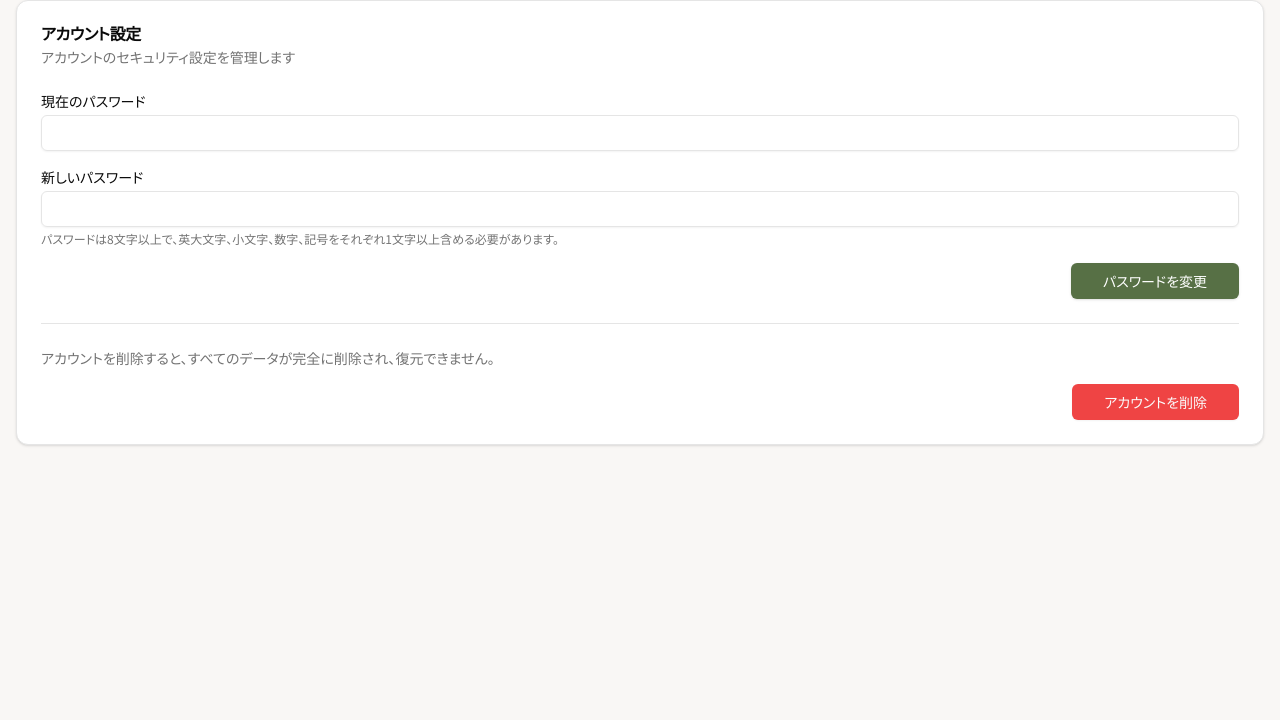
Test: AccountSettingsPage › 新しいパスワードが短い場合にバリデーションエラーが表示される
Type "oldpass123!A" into the password field labelled "現在のパスワード" at (640, 133), box [41, 115, 1239, 151]
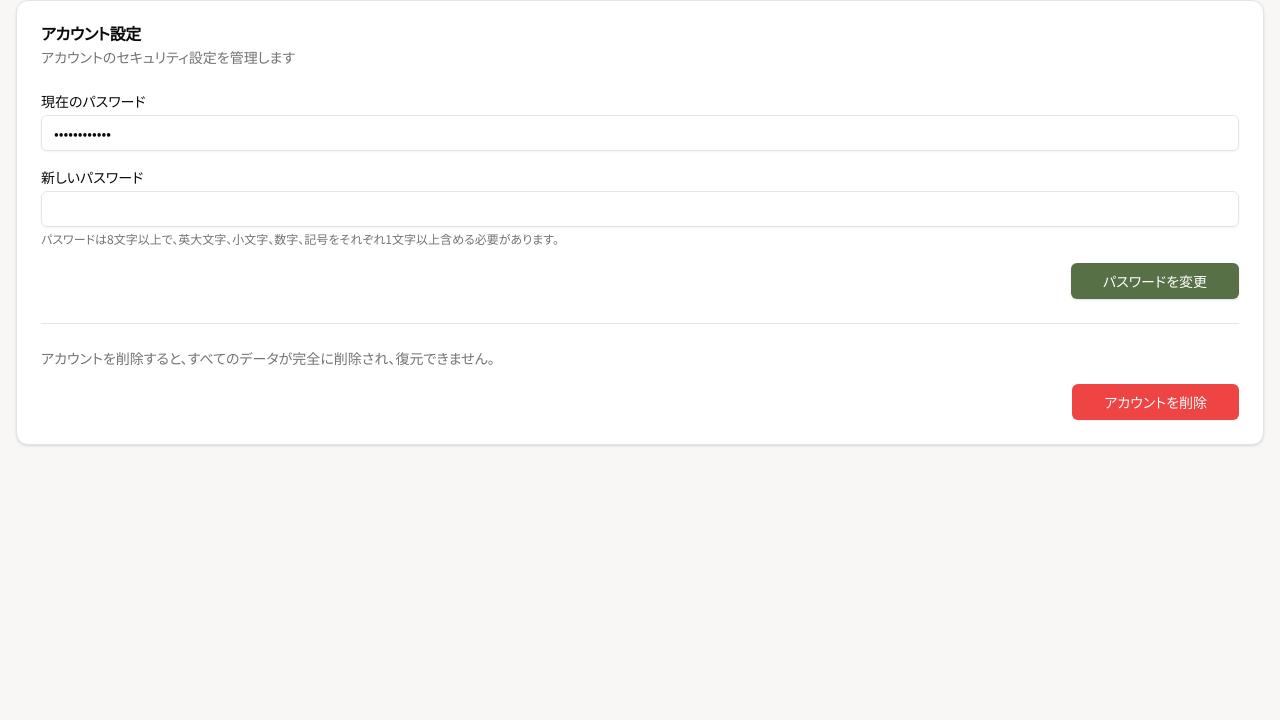
Type "short" into the password field labelled "新しいパスワード" at (640, 209), box [41, 191, 1239, 227]
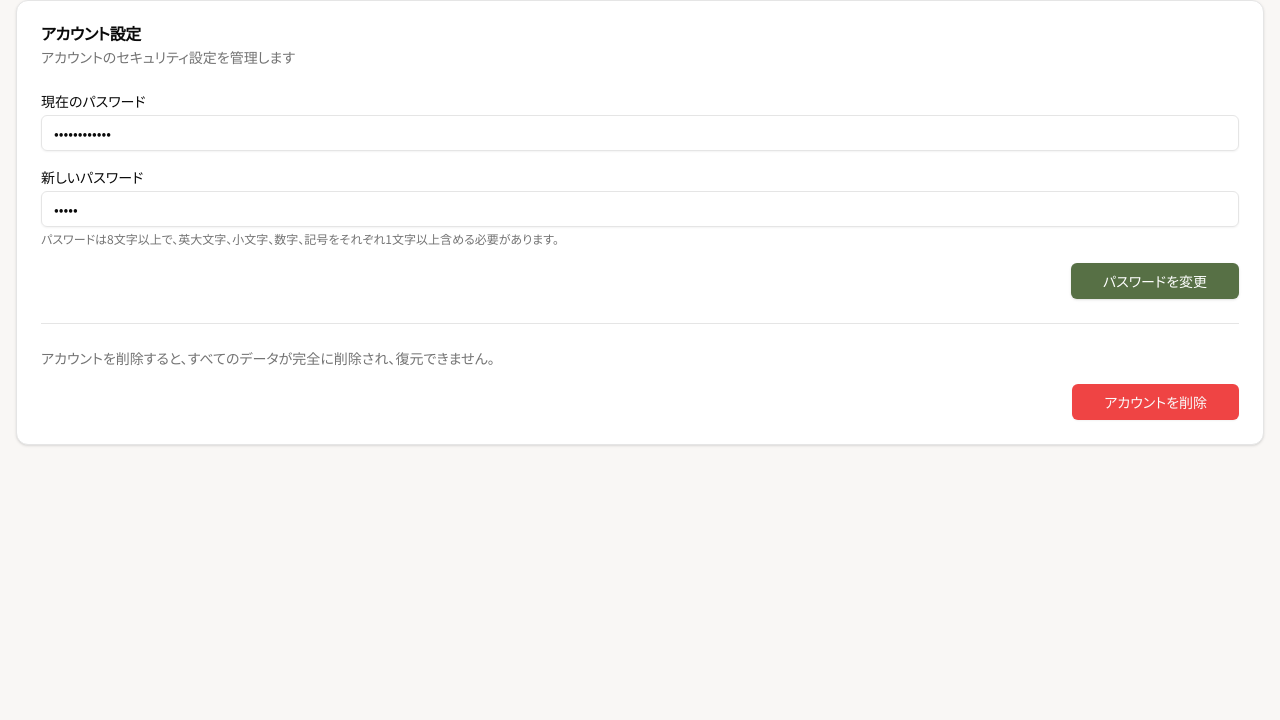
Click the button "パスワードを変更" at (1155, 281), box [1071, 263, 1239, 299]
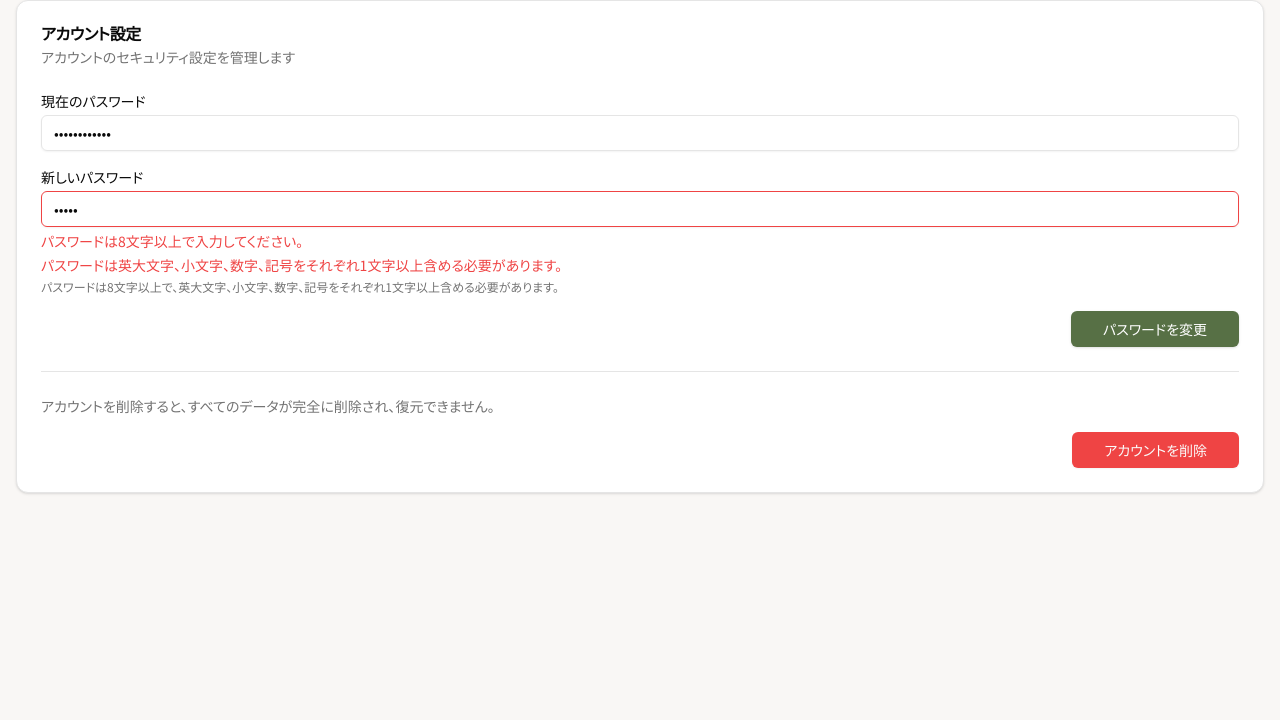
expect the text "パスワードは8文字以上で入力してください。" is shown: met, box [41, 231, 303, 251]
